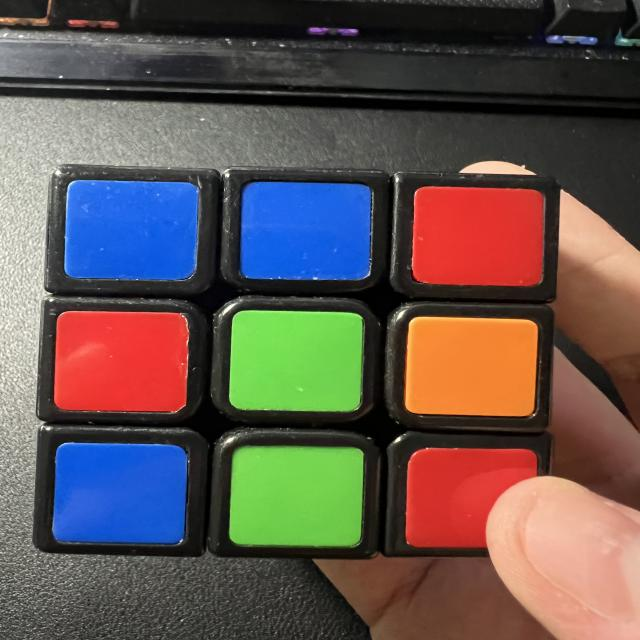blue: (65, 179, 198, 280), (56, 442, 186, 543), (244, 181, 371, 277)
center: (228, 309, 364, 413)
green: (232, 448, 363, 546), (232, 312, 362, 409)
orange: (409, 318, 535, 417)
red: (54, 310, 187, 414), (404, 448, 539, 548), (415, 184, 543, 289)
